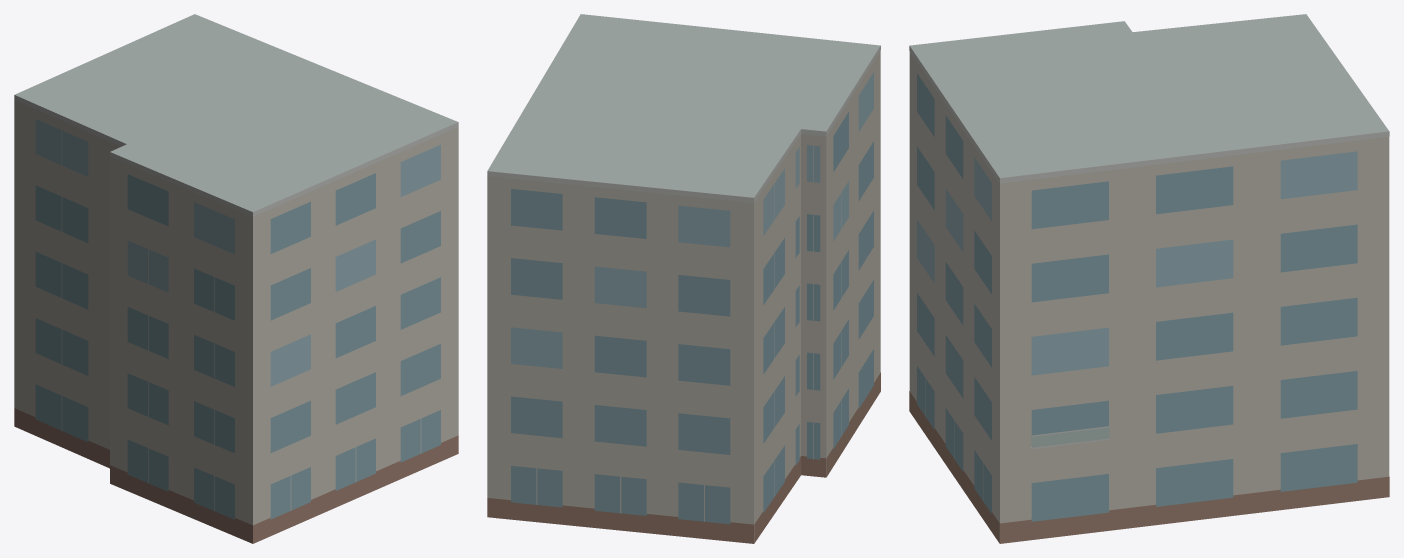
File: survey-upis-33000822.glb
The picture shows the model from 3 angles, left to right: view 1: azimuth 30°, elevation 25°; view 2: azimuth 150°, elevation 25°; view 3: azimuth 270°, elevation 25°; orthographic projection. The views are drawn at different scales.
Visible parts, largest first — view 1: survey-upis-33000822.tmp; view 2: survey-upis-33000822.tmp; view 3: survey-upis-33000822.tmp.
Part boxes in pixels (box(x1,y1,x2,y2)): survey-upis-33000822.tmp: box(14, 14, 458, 543); survey-upis-33000822.tmp: box(487, 14, 880, 543); survey-upis-33000822.tmp: box(909, 14, 1389, 543).
Bounding box in the file's own units: 16.28 × 16.9 × 20.11.
